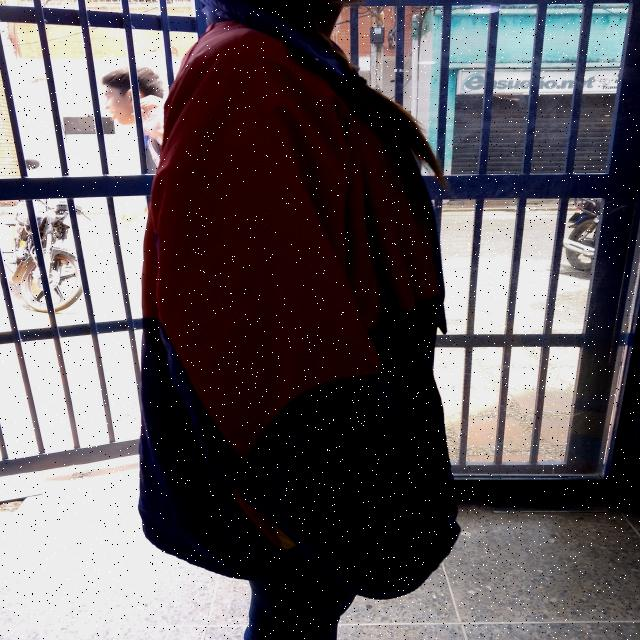chaqueta_unefa: (136, 0, 462, 600)
